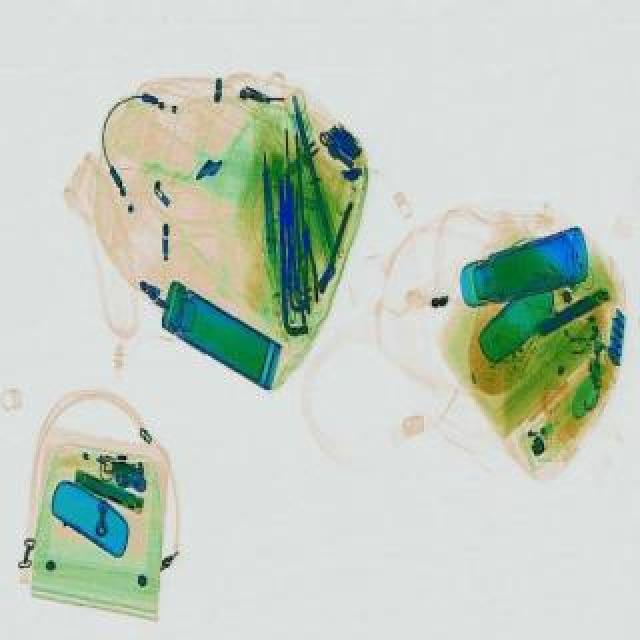scissors: (312, 200, 356, 292)
wrench: (294, 220, 320, 312)
